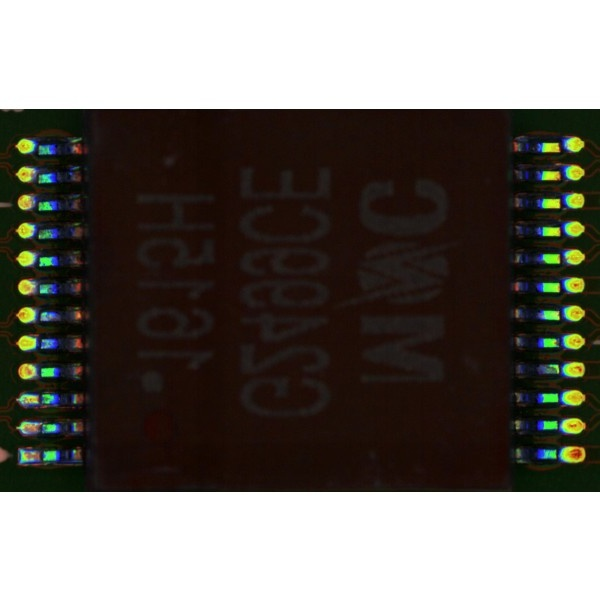Bad_podu: (28, 451, 48, 461), (29, 396, 47, 404), (29, 424, 47, 432)
